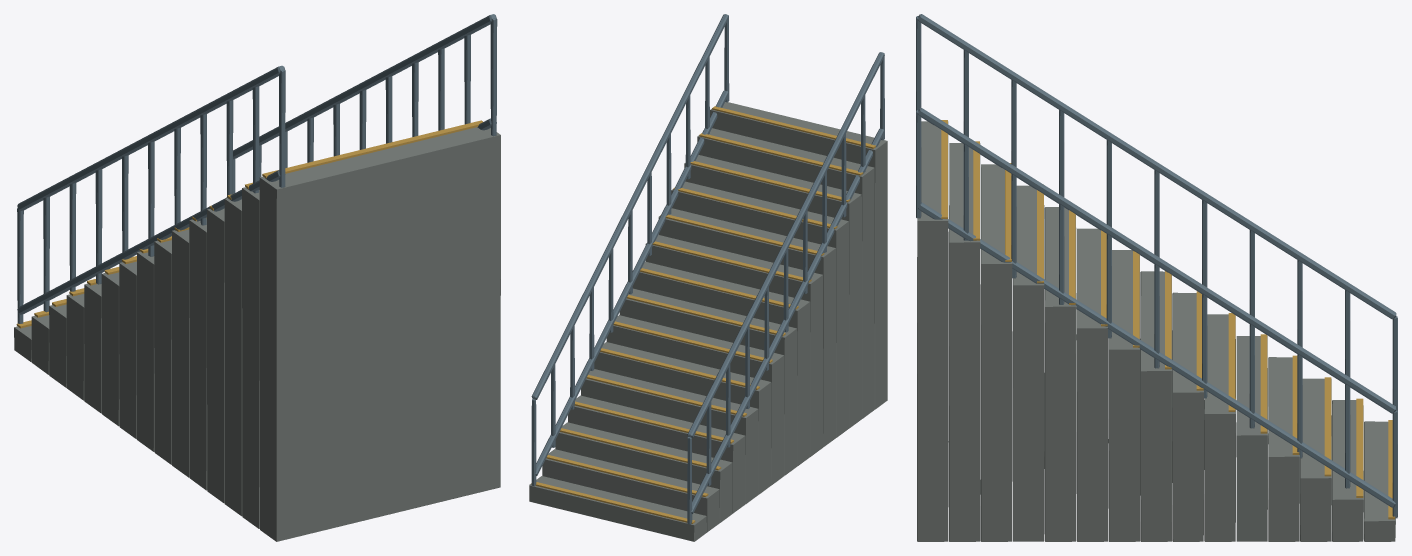
File: architecture-stairs.lod1.glb
The picture shows the model from 3 angles, left to right: view 1: azimuth 30°, elevation 25°; view 2: azimuth 150°, elevation 25°; view 3: azimuth 270°, elevation 25°; orthographic projection. The views are drawn at different scales.
Visible parts, largest first — view 1: architecture-stairs__body; view 2: architecture-stairs__body; view 3: architecture-stairs__body.
Part boxes in pixels (left/top/right/bottom): architecture-stairs__body: left=14, top=14, right=500, bottom=541; architecture-stairs__body: left=529, top=14, right=887, bottom=541; architecture-stairs__body: left=916, top=14, right=1397, bottom=541.
Bounding box in the file's own units: 1.99 × 4.01 × 4.07.
